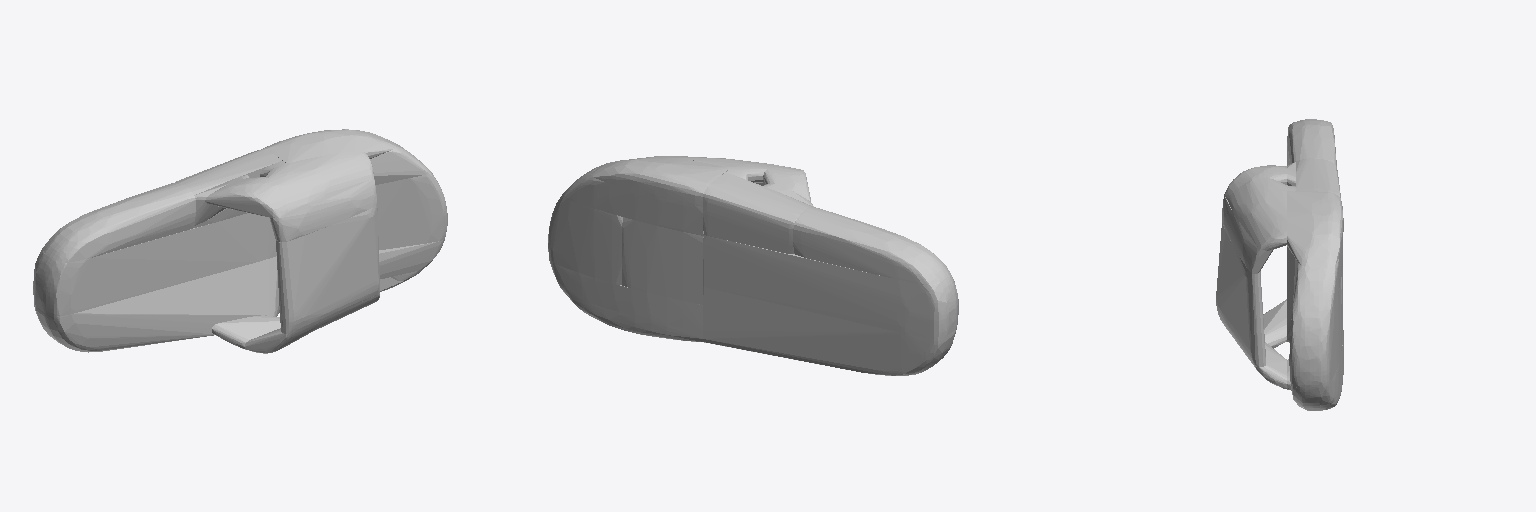
The model's file is coacd_collision.obj.
3 renders of one model, left to right at view 1: azimuth 30°, elevation 25°; view 2: azimuth 150°, elevation 25°; view 3: azimuth 270°, elevation 25°, orthographic.
Parts seen in each view (by area): view 1: geometry_7, geometry_2, geometry_1, geometry_12, geometry_14, geometry_8, geometry_0, geometry_6, geometry_3, geometry_16, geometry_11, geometry_4 (+3 smaller); view 2: geometry_7, geometry_2, geometry_12, geometry_16, geometry_13, geometry_14, geometry_6, geometry_11, geometry_4, geometry_15, geometry_3, geometry_8; view 3: geometry_1, geometry_6, geometry_14, geometry_8, geometry_4, geometry_12, geometry_0, geometry_16, geometry_11, geometry_10, geometry_5, geometry_3 (+1 smaller).
Part boxes in pixels (left/top/right/bottom): geometry_7: left=33, top=213, right=276, bottom=315; geometry_2: left=34, top=256, right=279, bottom=352; geometry_1: left=276, top=206, right=379, bottom=333; geometry_12: left=43, top=182, right=195, bottom=262; geometry_14: left=376, top=171, right=447, bottom=249; geometry_8: left=266, top=152, right=373, bottom=213; geometry_0: left=269, top=178, right=376, bottom=241; geometry_6: left=263, top=129, right=395, bottom=162; geometry_3: left=205, top=177, right=288, bottom=217; geometry_16: left=176, top=148, right=281, bottom=227; geometry_11: left=379, top=239, right=444, bottom=278; geometry_4: left=370, top=139, right=429, bottom=184; geometry_7: left=703, top=235, right=958, bottom=339; geometry_2: left=703, top=287, right=956, bottom=375; geometry_12: left=793, top=207, right=948, bottom=285; geometry_16: left=703, top=172, right=812, bottom=253; geometry_13: left=622, top=217, right=703, bottom=304; geometry_14: left=548, top=193, right=622, bottom=284; geometry_6: left=592, top=156, right=729, bottom=206; geometry_11: left=550, top=261, right=702, bottom=331; geometry_4: left=564, top=165, right=703, bottom=235; geometry_15: left=566, top=294, right=704, bottom=342; geometry_3: left=763, top=165, right=810, bottom=201; geometry_8: left=654, top=156, right=773, bottom=182; geometry_1: left=1216, top=223, right=1265, bottom=366; geometry_6: left=1287, top=191, right=1343, bottom=266; geometry_14: left=1289, top=283, right=1341, bottom=387; geometry_8: left=1228, top=178, right=1286, bottom=250; geometry_4: left=1293, top=243, right=1342, bottom=311; geometry_12: left=1287, top=119, right=1336, bottom=165; geometry_0: left=1222, top=196, right=1272, bottom=273; geometry_16: left=1296, top=158, right=1340, bottom=197; geometry_11: left=1291, top=336, right=1343, bottom=407; geometry_10: left=1263, top=299, right=1286, bottom=348; geometry_5: left=1230, top=332, right=1286, bottom=388; geometry_3: left=1224, top=165, right=1286, bottom=199.
Bounding box in the file's own units: 241 × 96.06 × 66.53.